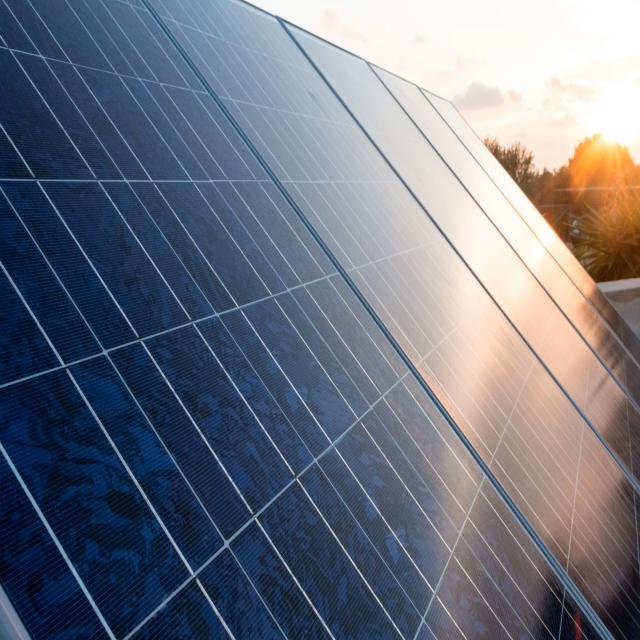crack: (161, 298, 462, 576), (42, 166, 276, 482)
